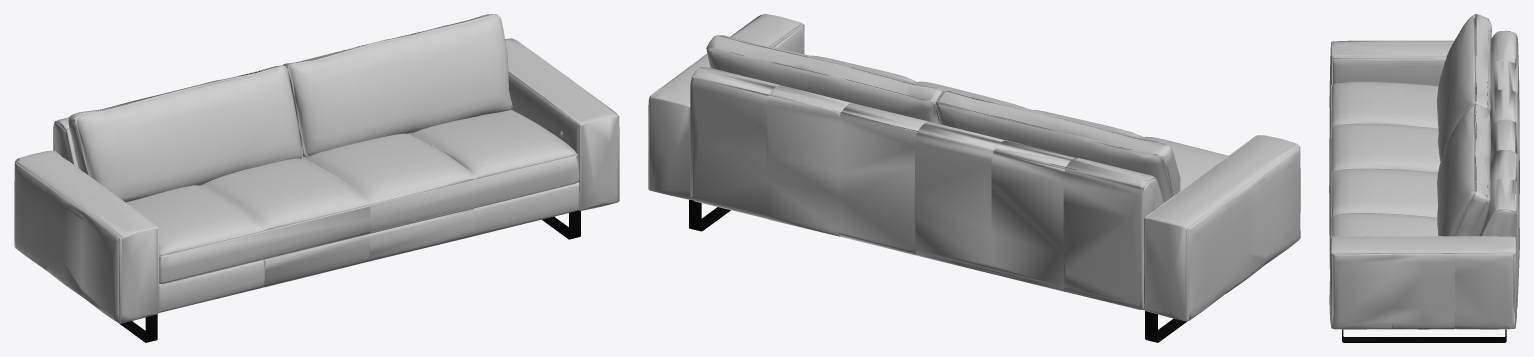
Rendered from sofa-modelo-triplo-estofado.glb.
3 views of the same model, side by side, from view 1: azimuth 30°, elevation 25°; view 2: azimuth 150°, elevation 25°; view 3: azimuth 270°, elevation 25° (orthographic). The views are drawn at different scales.
Visible parts, largest first — view 1: Modelo Triplo Estofado; view 2: Modelo Triplo Estofado; view 3: Modelo Triplo Estofado.
Part boxes in pixels (box(x1,y1,x2,y2)): Modelo Triplo Estofado: box(14, 14, 619, 342); Modelo Triplo Estofado: box(648, 14, 1300, 342); Modelo Triplo Estofado: box(1329, 14, 1519, 342).
Size of the model in its own units: 2.43 by 0.7788 by 0.9096.
Materials: 4 (2 with a texture image).
